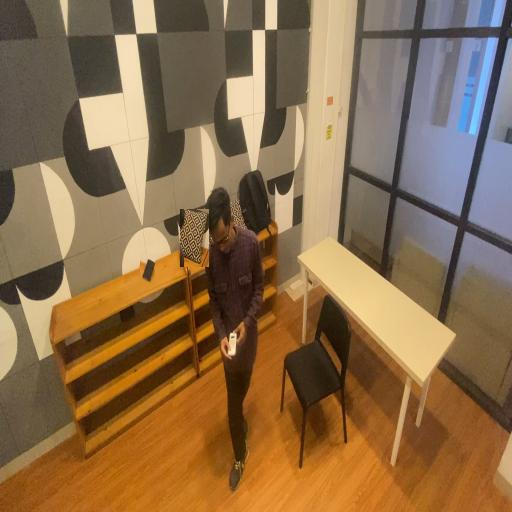bantal: (180, 209, 209, 267)
hp: (140, 255, 155, 283)
kursi: (276, 290, 354, 466)
lemari: (50, 276, 201, 460)
remote AC: (226, 330, 240, 358)
tas ransel: (238, 165, 274, 237)
